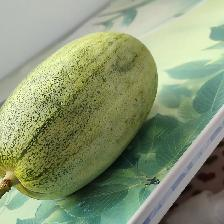gua: (13, 33, 136, 191)
